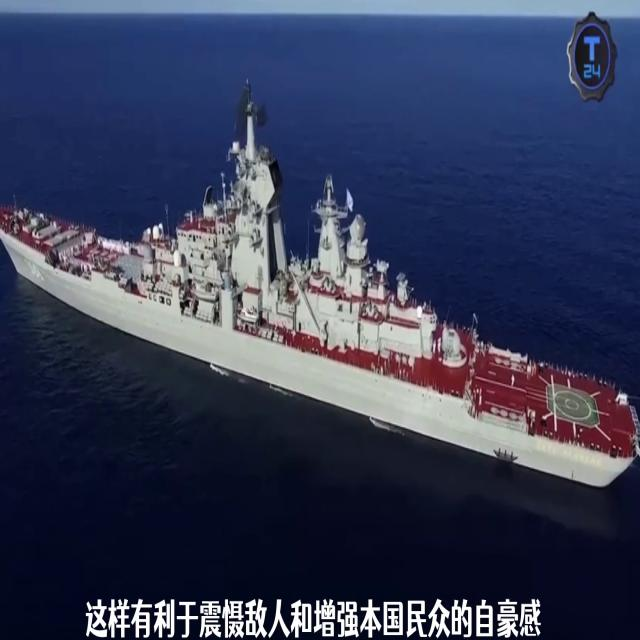navalvessels: (0, 76, 634, 502)
